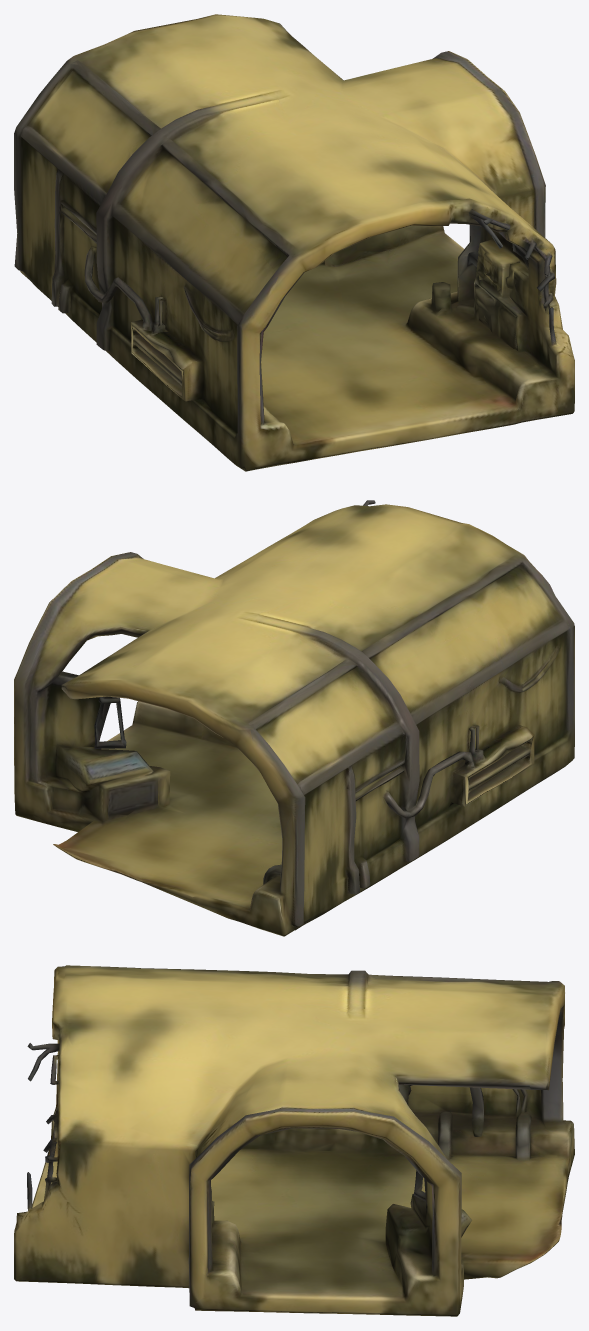
Rendered from tripo_convert_4ea16926-c936-46ba-bbb8-5f51fe8de474.glb.
3 views of the same model, one above another, from view 1: azimuth 30°, elevation 25°; view 2: azimuth 150°, elevation 25°; view 3: azimuth 270°, elevation 25° (orthographic). The views are drawn at different scales.
Visible parts, largest first — view 1: tripo_node_4ea16926-c936-46ba-bbb8-5f51fe8de474; view 2: tripo_node_4ea16926-c936-46ba-bbb8-5f51fe8de474; view 3: tripo_node_4ea16926-c936-46ba-bbb8-5f51fe8de474.
Boxes of the visible parts, bbox=[...] form: tripo_node_4ea16926-c936-46ba-bbb8-5f51fe8de474: bbox=[14, 14, 574, 471]; tripo_node_4ea16926-c936-46ba-bbb8-5f51fe8de474: bbox=[14, 500, 574, 936]; tripo_node_4ea16926-c936-46ba-bbb8-5f51fe8de474: bbox=[14, 965, 574, 1316].
Bounding box in the file's own units: 0.7789 × 0.4237 × 1.
Materials: 1 (1 with a texture image).
